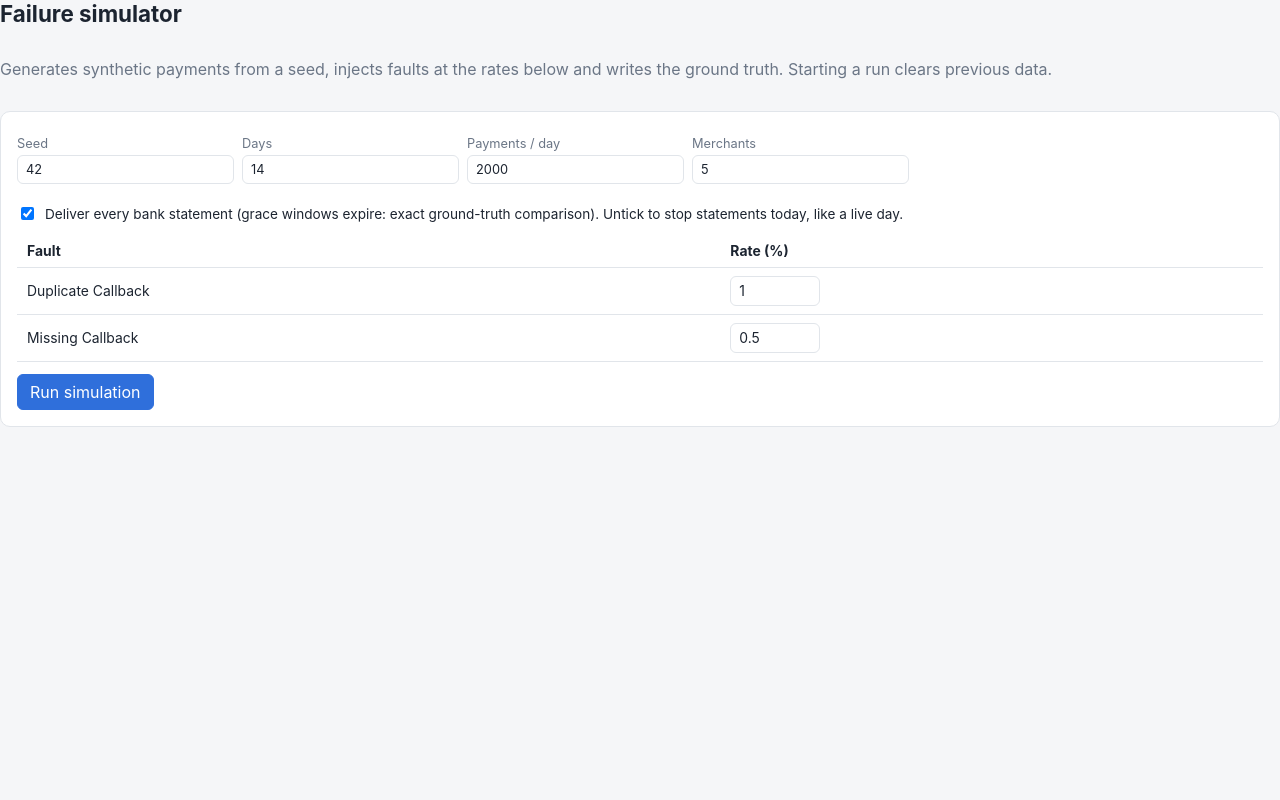
Scenario: SimulatorPage › starts a run with the chosen seed and rates, polls it, reconciles and shows ground truth
Expected: the field named "DUPLICATE_CALLBACK rate" holds "1", top-left (730, 276), bottom-right (820, 306)
Replace the text in the field labelled "Seed" with "7": [126, 170] box top-left (17, 155), bottom-right (234, 184)
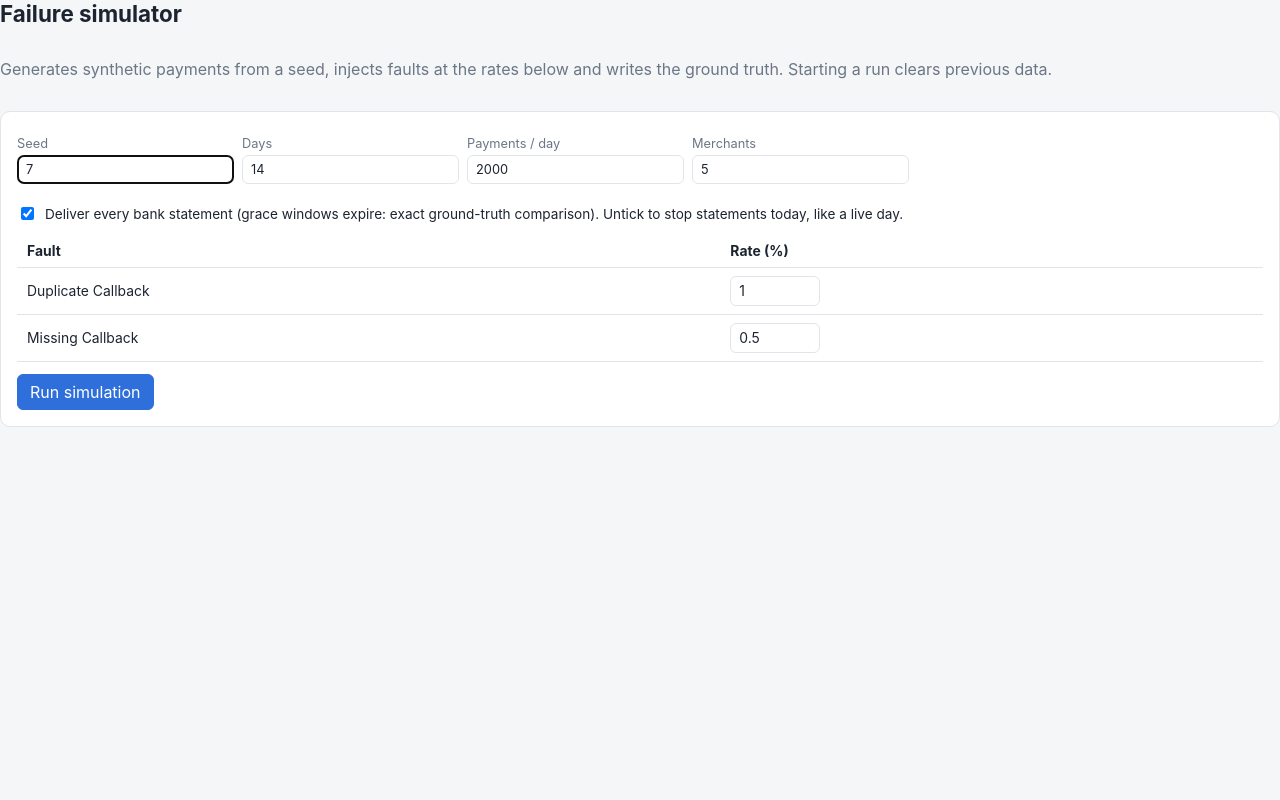
Replace the text in the field named "DUPLICATE_CALLBACK rate" with "2.5": [775, 291] box top-left (730, 276), bottom-right (820, 306)
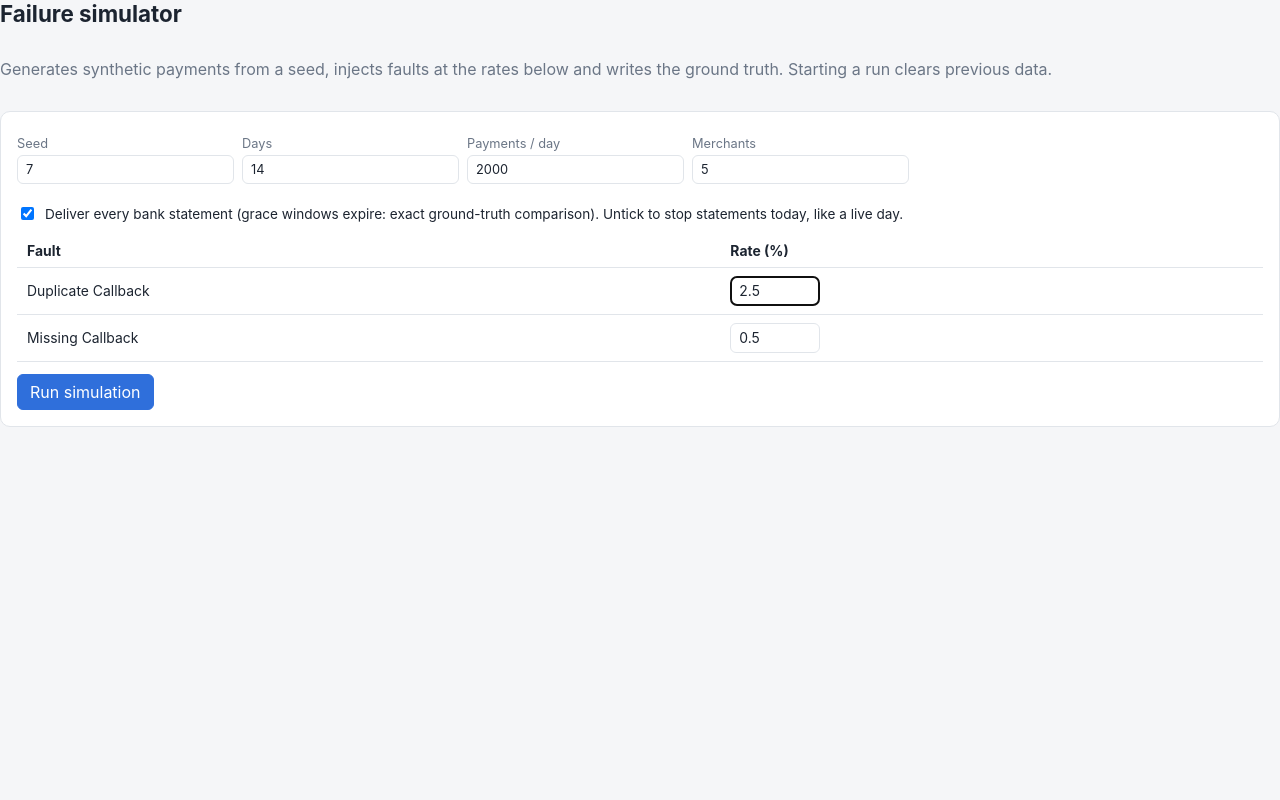
Click the button "Run simulation": [85, 392] box top-left (17, 374), bottom-right (154, 410)
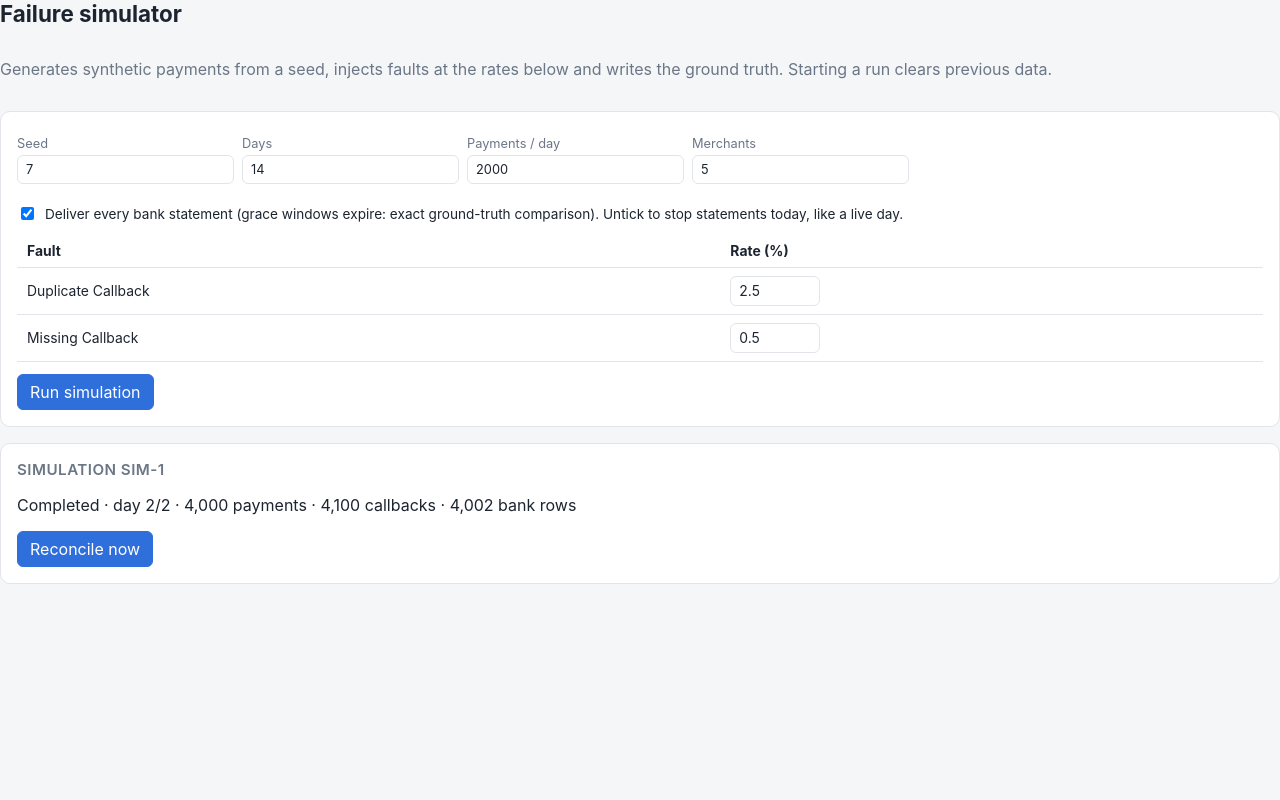
Expected: the text with test id "sim-state" shows "Completed", top-left (17, 495), bottom-right (100, 515)
Click the button "Reconcile now": [85, 549] box top-left (17, 531), bottom-right (153, 567)
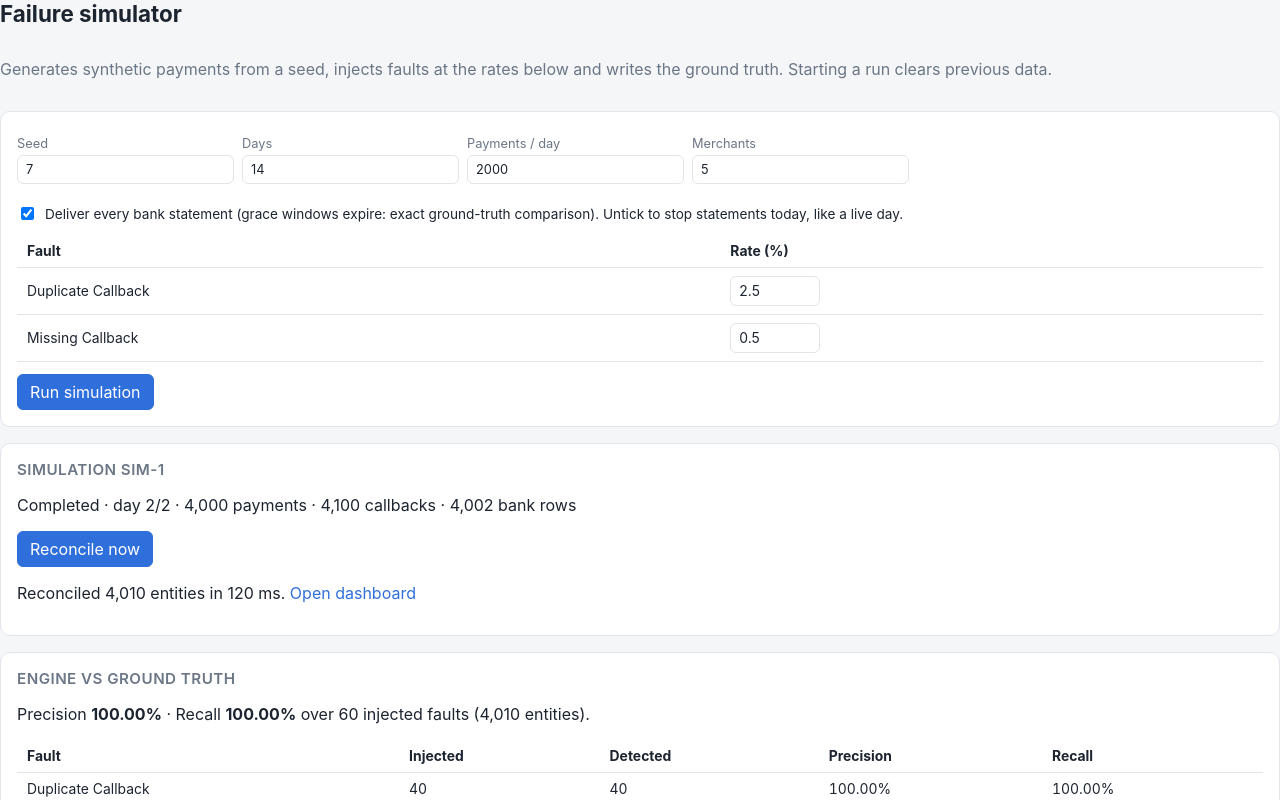
Expected: the element with test id "gt-overall" shows "Precision 100.00% · Recall 100.00% over 60 injected faults", top-left (17, 704), bottom-right (590, 724)
